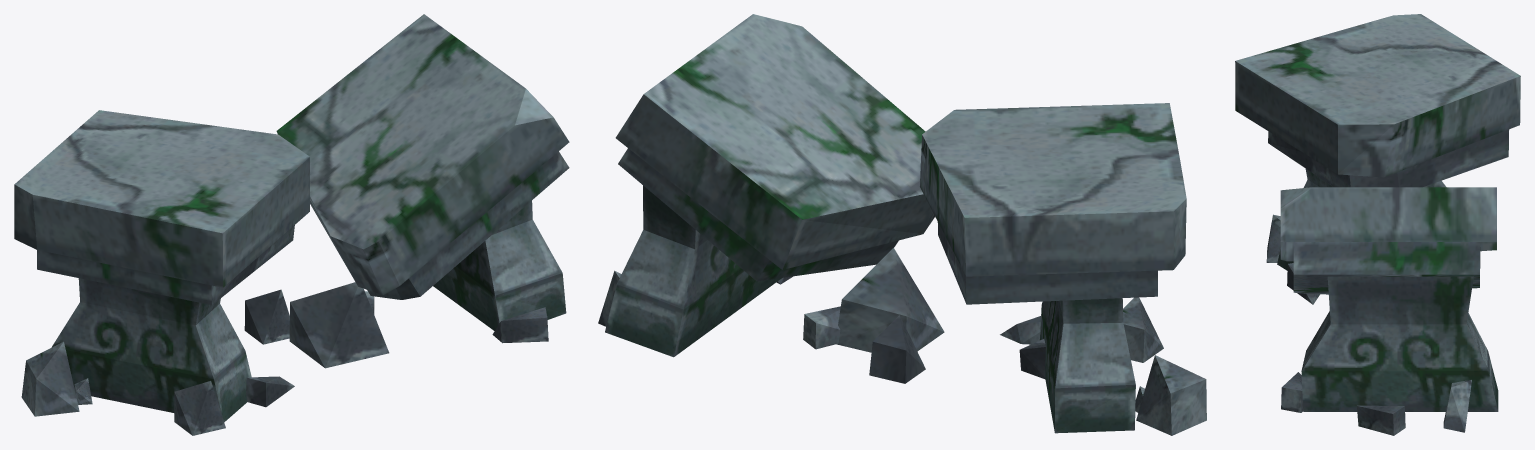
File: stemple_bench_02.fbx
3 views of the same model, side by side, from view 1: azimuth 30°, elevation 25°; view 2: azimuth 150°, elevation 25°; view 3: azimuth 270°, elevation 25° (orthographic). The views are drawn at different scales.
Parts seen in each view (by area): view 1: obj0.042; view 2: obj0.042; view 3: obj0.042.
Part boxes in pixels (<box>): obj0.042: <box>14,14,569,435</box>; obj0.042: <box>598,14,1206,435</box>; obj0.042: <box>1235,14,1520,435</box>.
Bounding box in the file's own units: 2.43 × 1.08 × 1.26.
